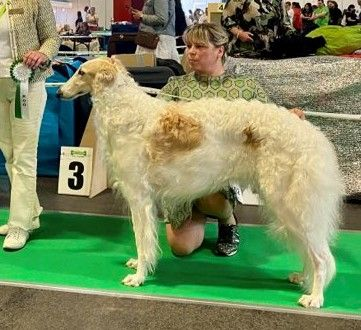borzoi: (52, 58, 346, 309)
